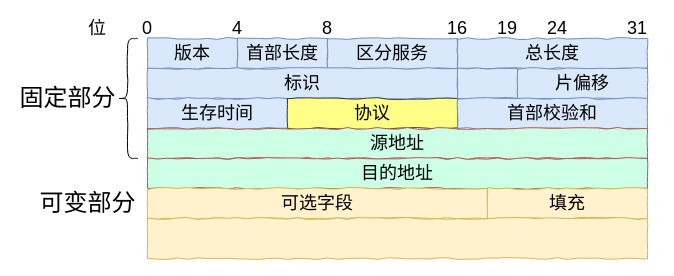
Some shapes in this 674 by 276 pixel diagram are drawn without their labels. Each missing label, with the centre of its shape:
"数据部分" goes at point 397,238.
"标志" goes at point 487,83.
